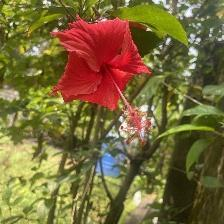hibiscus: (47, 13, 162, 152)
